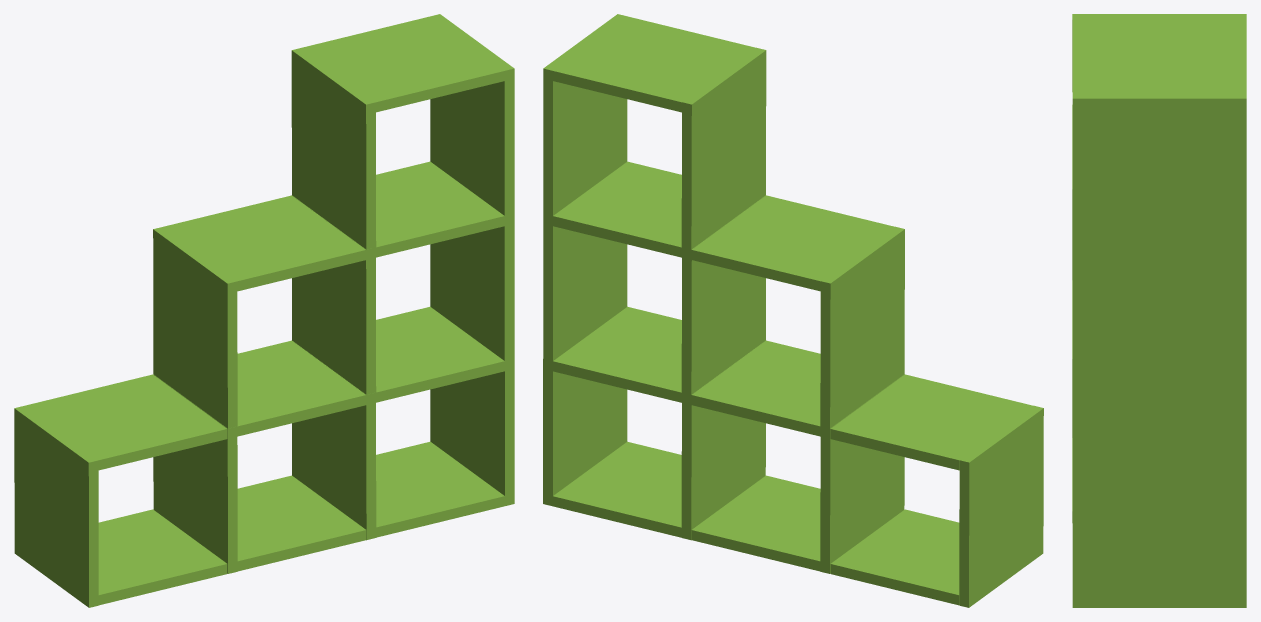
File: Step Cubby Storage.glb
The picture shows the model from 3 angles, left to right: view 1: azimuth 30°, elevation 25°; view 2: azimuth 150°, elevation 25°; view 3: azimuth 270°, elevation 25°; orthographic projection. The views are drawn at different scales.
Parts seen in each view (by area): view 1: StepcubbyStorage; view 2: StepcubbyStorage; view 3: StepcubbyStorage.
Part boxes in pixels (bbox=[...]): StepcubbyStorage: bbox=[14, 14, 514, 607]; StepcubbyStorage: bbox=[543, 14, 1043, 607]; StepcubbyStorage: bbox=[1072, 14, 1246, 607].
Size of the model in its own units: 1.92 by 1.88 by 0.583.
